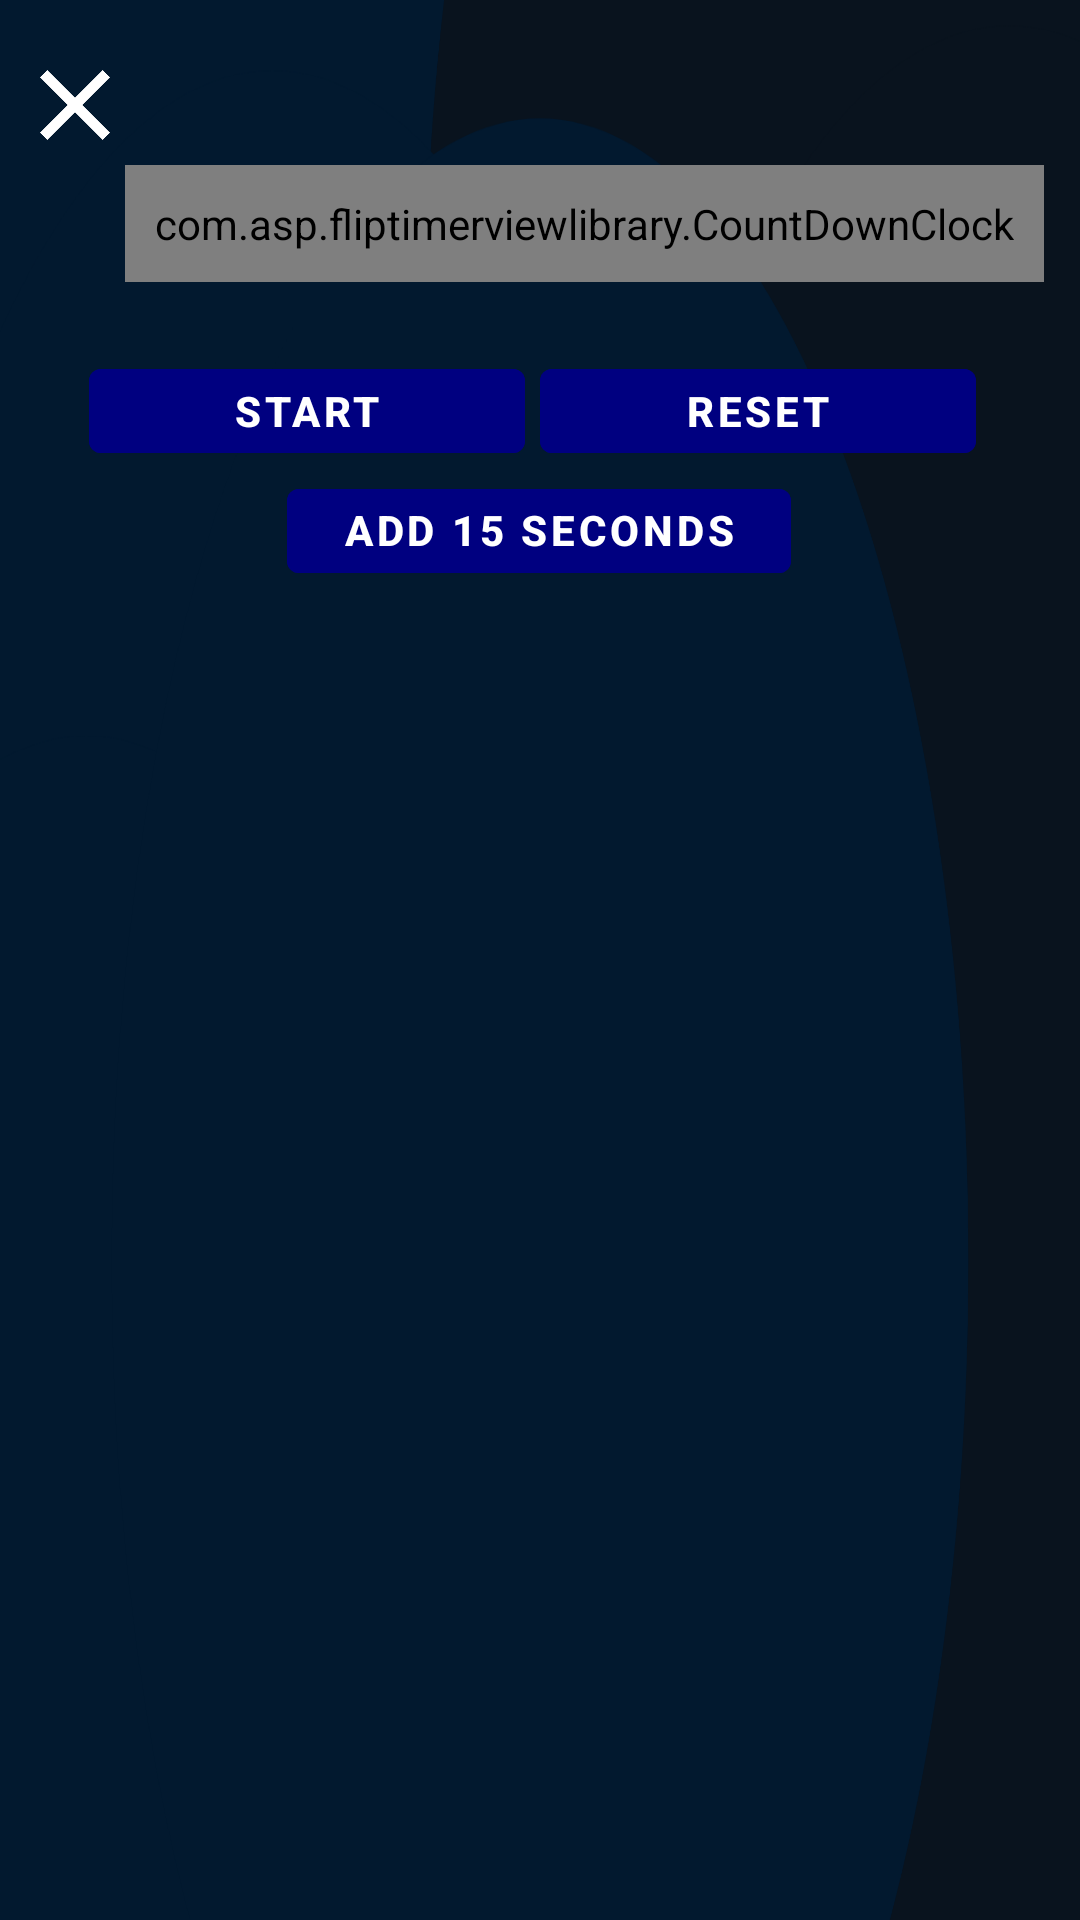

Icons on this 1080w x 1920h Android screen, each with the point to tap as point (x, y):
close: point (75, 105)
